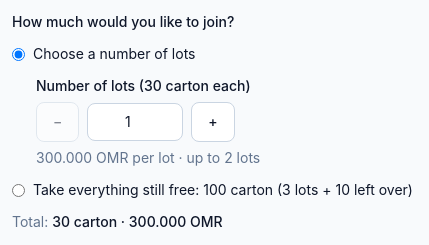
Scenario: LotPicker stepper › snaps a typed  back into range with more
Clear the number field labelled "Number of lots (30 carton each)". click: (135, 122)
box: [87,103,183,141]
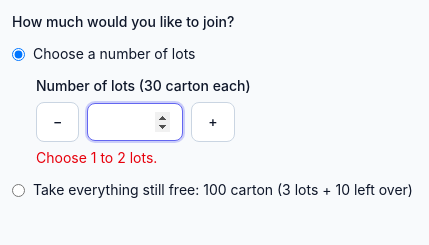
Click the button named "More lots". click: (213, 122)
box: [191,102,235,142]
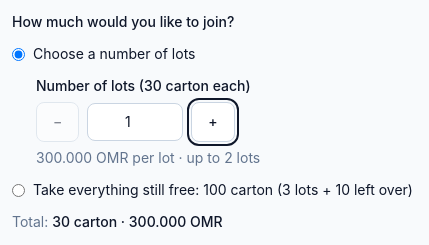
Expected: the number field labelled "Number of lots (30 carton each)" holds "1", [87,103,183,141]
